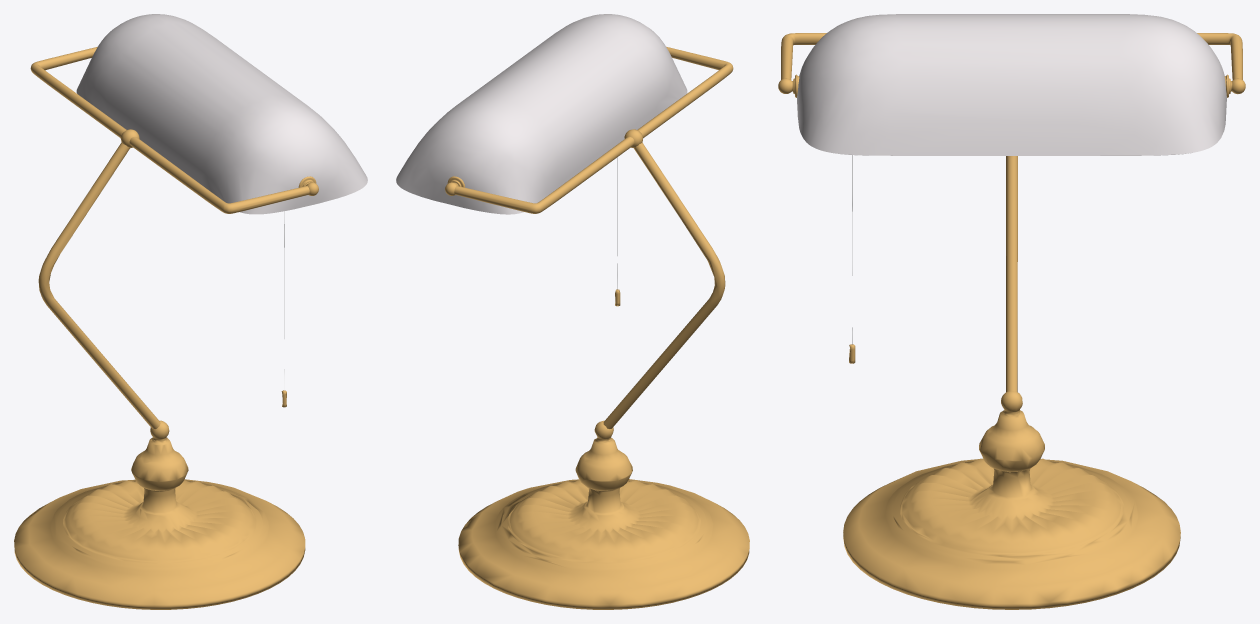
File: banker_lamp_a71cef.glb
The picture shows the model from 3 angles, left to right: view 1: azimuth 30°, elevation 25°; view 2: azimuth 150°, elevation 25°; view 3: azimuth 270°, elevation 25°; orthographic projection. The views are drawn at different scales.
Visible parts, largest first — view 1: Circle, Lamp, Vert.001, Vert.002; view 2: Circle, Lamp, Vert.001, Vert.002; view 3: Lamp, Circle, Vert.002, Vert.001.
Part boxes in pixels (x1,y1,x2,y2): Circle: [14, 420, 305, 609]; Lamp: [76, 14, 367, 214]; Vert.001: [30, 47, 318, 213]; Vert.002: [38, 129, 160, 428]; Circle: [458, 420, 749, 609]; Lamp: [396, 14, 687, 214]; Vert.001: [445, 46, 733, 213]; Vert.002: [603, 129, 725, 428]; Lamp: [797, 14, 1226, 155]; Circle: [843, 391, 1180, 609]; Vert.002: [1006, 156, 1017, 392]; Vert.001: [778, 33, 1245, 97].
Size of what is drawn, in the model's own units: 0.2318 by 0.4018 by 0.3103.
2 materials, 2 textured.
